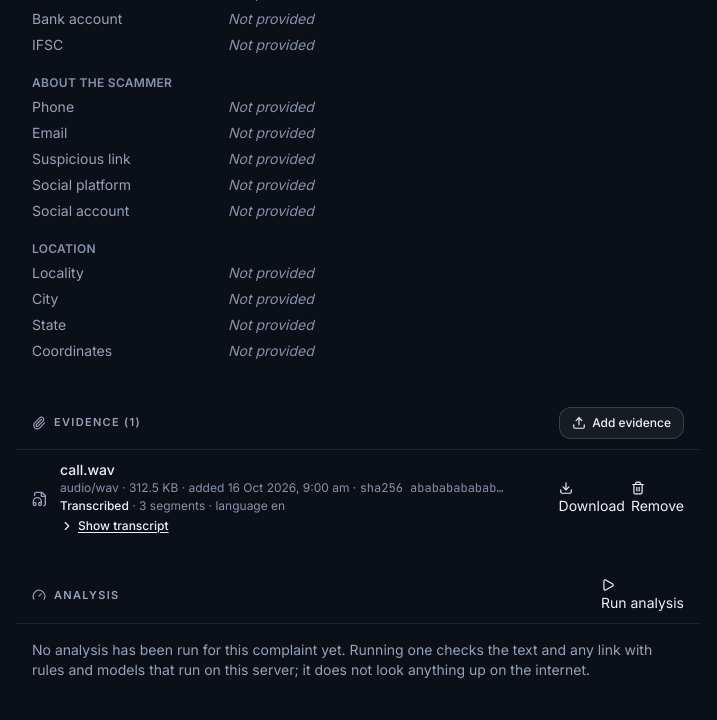
Scenario: audio evidence on the complaint page › a transcript that cannot be loaded is reported, not faked
(page scrolled)
What coordinates should you click on to do the following:
click the button with test id "transcript-toggle"
I would click on:
 (114, 526)
Its box is [60, 518, 168, 534].
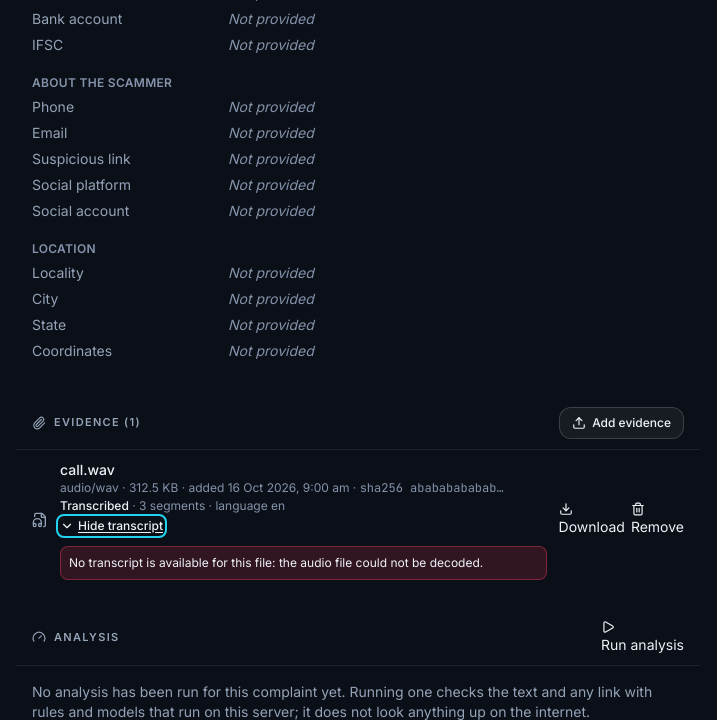
Result: the message with test id "transcript-error" shows "No transcript is available for this file" at [69, 554, 483, 570]
